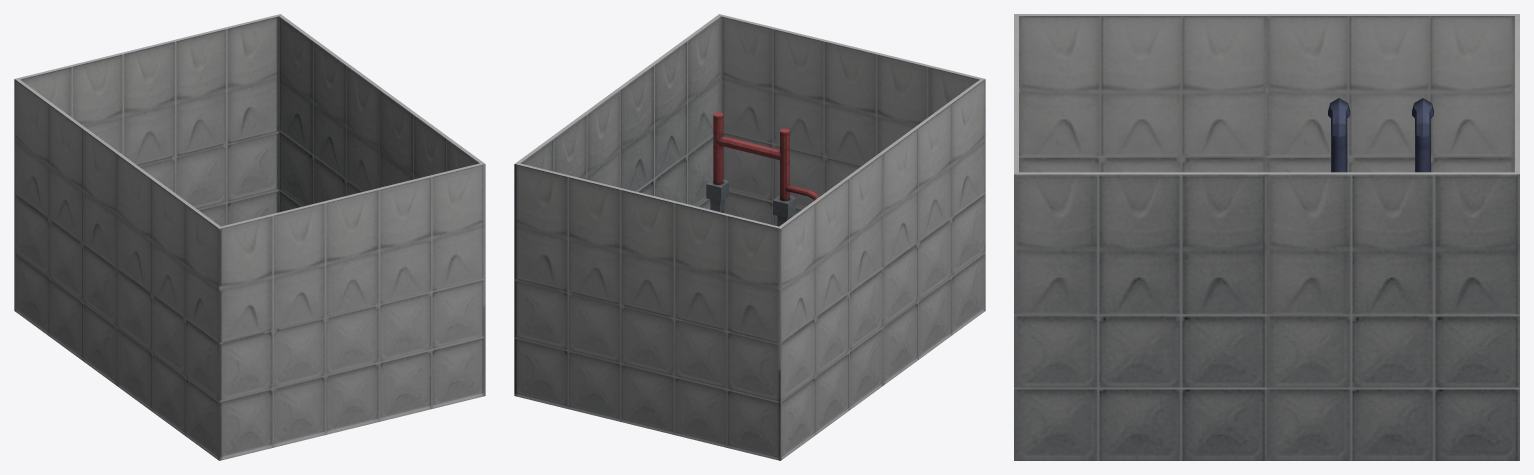
Rendered from waterTank.gltf.
3 views of the same model, side by side, from view 1: azimuth 30°, elevation 25°; view 2: azimuth 150°, elevation 25°; view 3: azimuth 270°, elevation 25° (orthographic). The views are drawn at different scales.
Parts seen in each view (by area): view 1: waterTank; view 2: waterTank; view 3: waterTank.
Part boxes in pixels (x1,y1,x2,y2): waterTank: [14, 14, 485, 460]; waterTank: [514, 14, 985, 460]; waterTank: [1014, 14, 1519, 460].
Bounding box in the file's own units: 38.4 × 32 × 51.2.
1 material, 1 textured.
